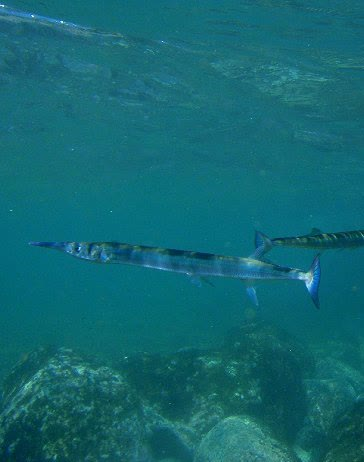sayori: (19, 214, 329, 311)
